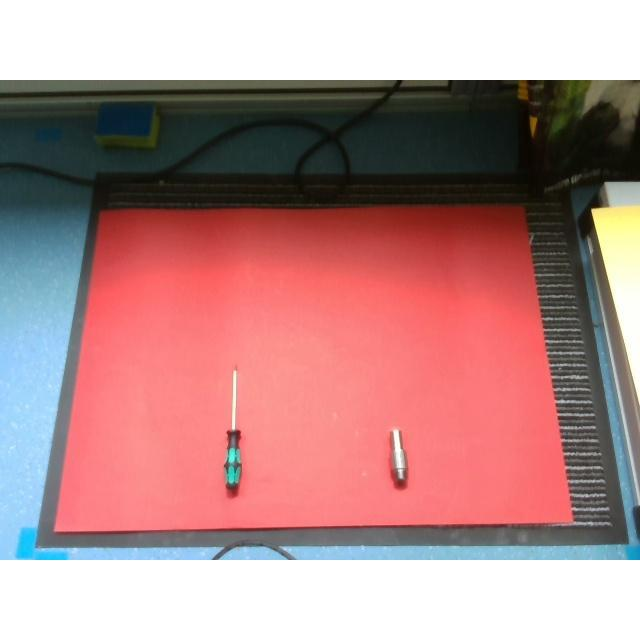Axis2: (388, 430, 408, 482)
Screwdriver: (224, 366, 242, 489)
